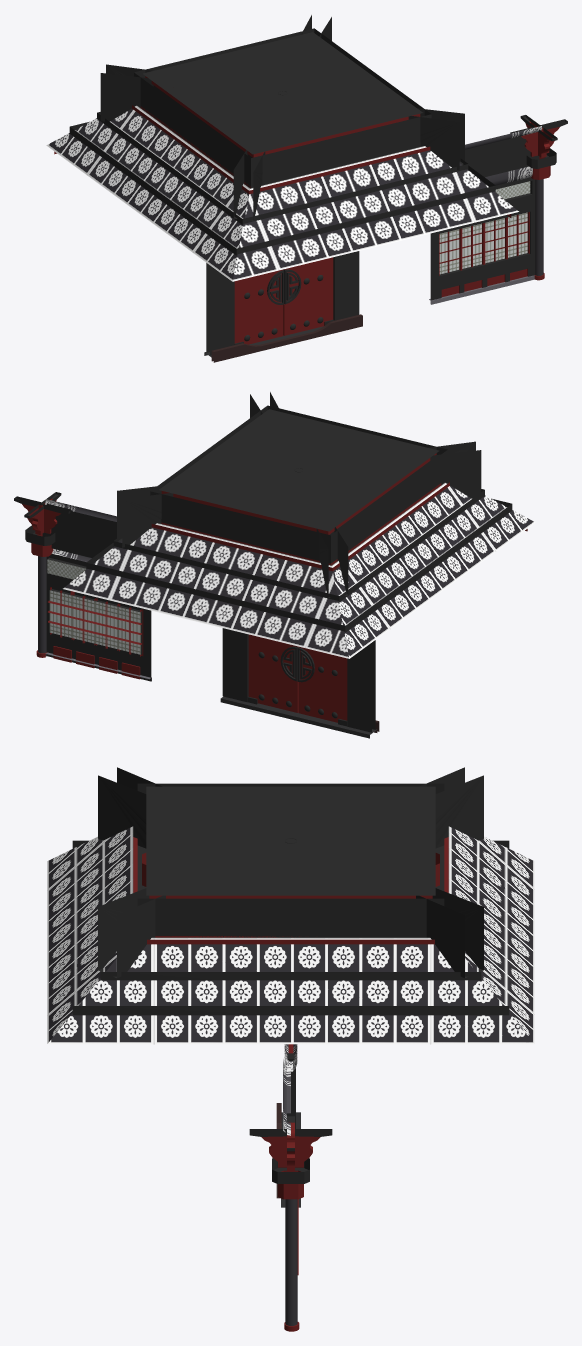
Rendered from stage1.fbx.
3 renders of one model, top to bottom at view 1: azimuth 30°, elevation 25°; view 2: azimuth 150°, elevation 25°; view 3: azimuth 270°, elevation 25°, orthographic. The views are drawn at different scales.
Visible parts, largest first — view 1: Box001, Plane003, Door_frame, Door_Right, Door_Left; view 2: Box001, Plane003, Door_frame, Door_Right, Door_Left; view 3: Box001, Plane003, Door_frame.
Boxes of the visible parts, bbox=[...] form: Box001: bbox=[46, 15, 518, 281]; Plane003: bbox=[429, 115, 567, 304]; Door_frame: bbox=[204, 251, 362, 362]; Door_Right: bbox=[283, 257, 334, 335]; Door_Left: bbox=[234, 269, 284, 344]; Box001: bbox=[63, 392, 535, 658]; Plane003: bbox=[14, 492, 151, 681]; Door_frame: bbox=[220, 628, 379, 738]; Door_Right: bbox=[247, 634, 298, 712]; Door_Left: bbox=[297, 646, 347, 726]; Box001: bbox=[47, 767, 534, 1044]; Plane003: bbox=[249, 1059, 332, 1331]; Door_frame: bbox=[276, 1044, 300, 1207].
Size of the model in its own units: 4112 by 2177 by 3375.
